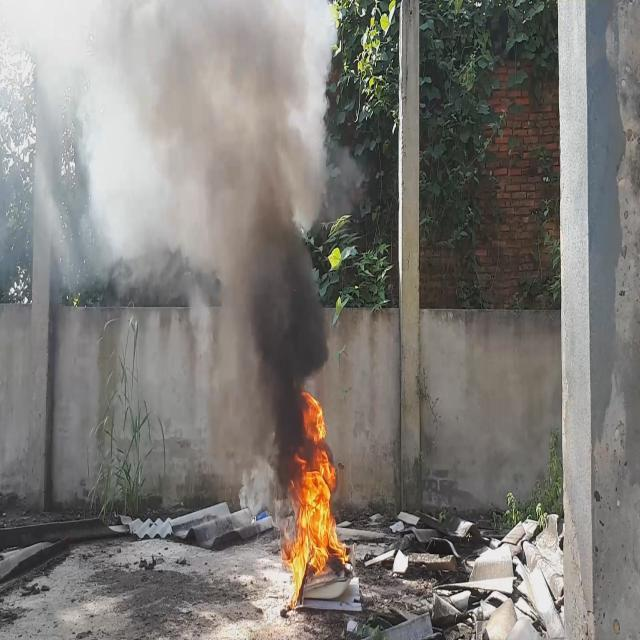Fire: (284, 386, 350, 606)
Smoke: (0, 0, 337, 499)
